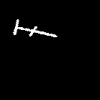double_crochet: (13, 20, 56, 36)
